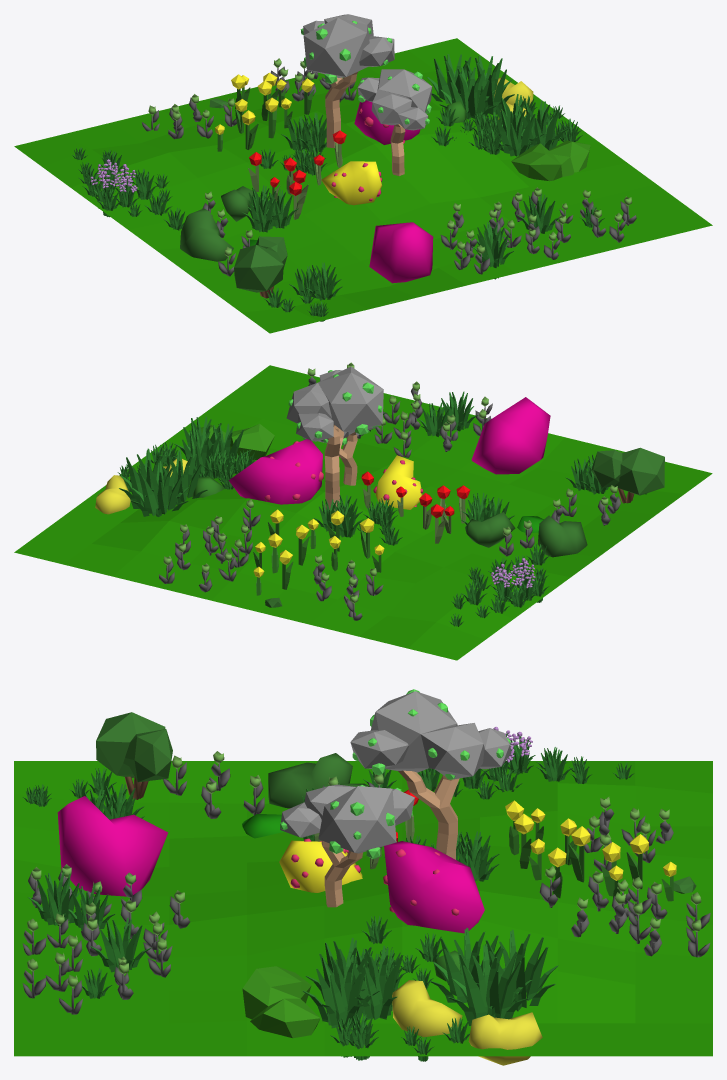
The model's file is MEADOW_FIELD06.fbx.
3 views of the same model, one above another, from view 1: azimuth 30°, elevation 25°; view 2: azimuth 150°, elevation 25°; view 3: azimuth 270°, elevation 25° (orthographic). The views are drawn at different scales.
Parts seen in each view (by area): view 1: Cylinder.151; view 2: Cylinder.151; view 3: Cylinder.151.
Boxes of the visible parts, x1=… form: Cylinder.151: x1=14, y1=14, x2=712, y2=333; Cylinder.151: x1=14, y1=362, x2=712, y2=660; Cylinder.151: x1=14, y1=689, x2=712, y2=1065.
Bounding box in the file's own units: 1006 × 386 × 1000.
